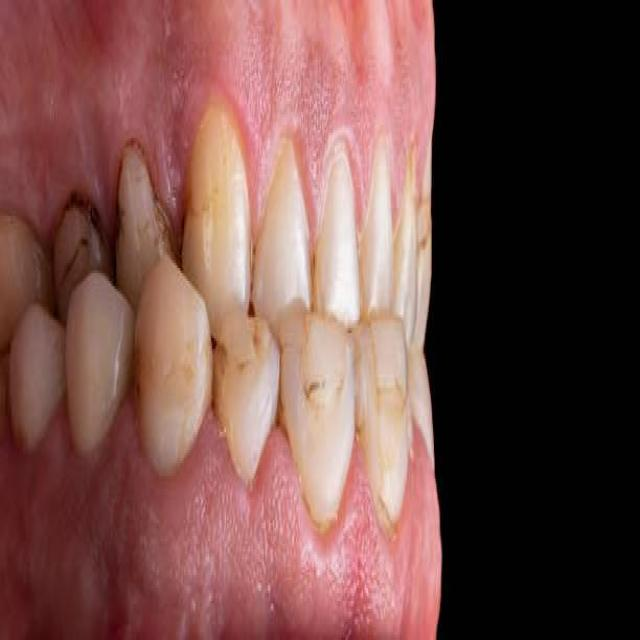caries: (290, 294, 350, 427), (362, 309, 412, 435), (212, 304, 270, 403)
